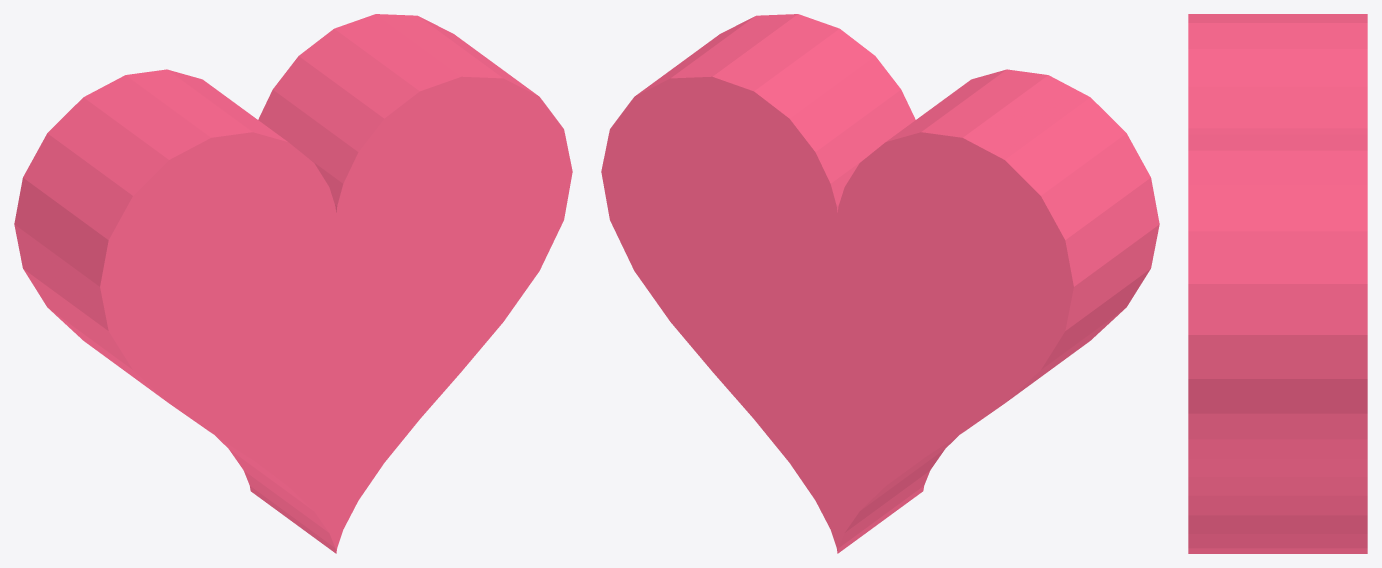
The model's file is heart.glb.
3 views of the same model, side by side, from view 1: azimuth 30°, elevation 25°; view 2: azimuth 150°, elevation 25°; view 3: azimuth 270°, elevation 25° (orthographic). The views are drawn at different scales.
Parts seen in each view (by area): view 1: heart; view 2: heart; view 3: heart.
Boxes of the visible parts, x1,y1,x2,y2 form: heart: (14,14,572,553); heart: (601,14,1159,553); heart: (1188,14,1367,553).
Size of the model in its own units: 0.07 by 0.0632 by 0.022.
